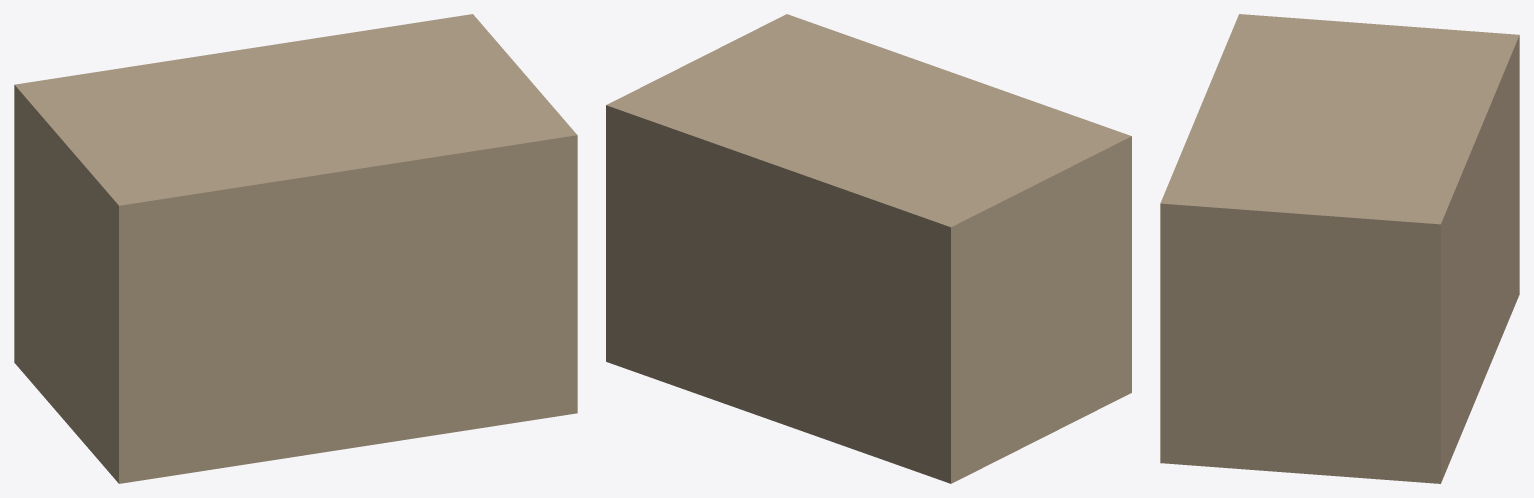
File: bld_101246031.dae
The picture shows the model from 3 angles, left to right: view 1: azimuth 30°, elevation 25°; view 2: azimuth 150°, elevation 25°; view 3: azimuth 270°, elevation 25°; orthographic projection. The views are drawn at different scales.
Visible parts, largest first — view 1: bld_101246031; view 2: bld_101246031; view 3: bld_101246031.
Boxes of the visible parts, left/top/right/bottom form: bld_101246031: left=14, top=14, right=577, bottom=483; bld_101246031: left=606, top=14, right=1131, bottom=483; bld_101246031: left=1160, top=14, right=1519, bottom=483.
Size of the model in its own units: 13.9 by 10.04 by 8.
